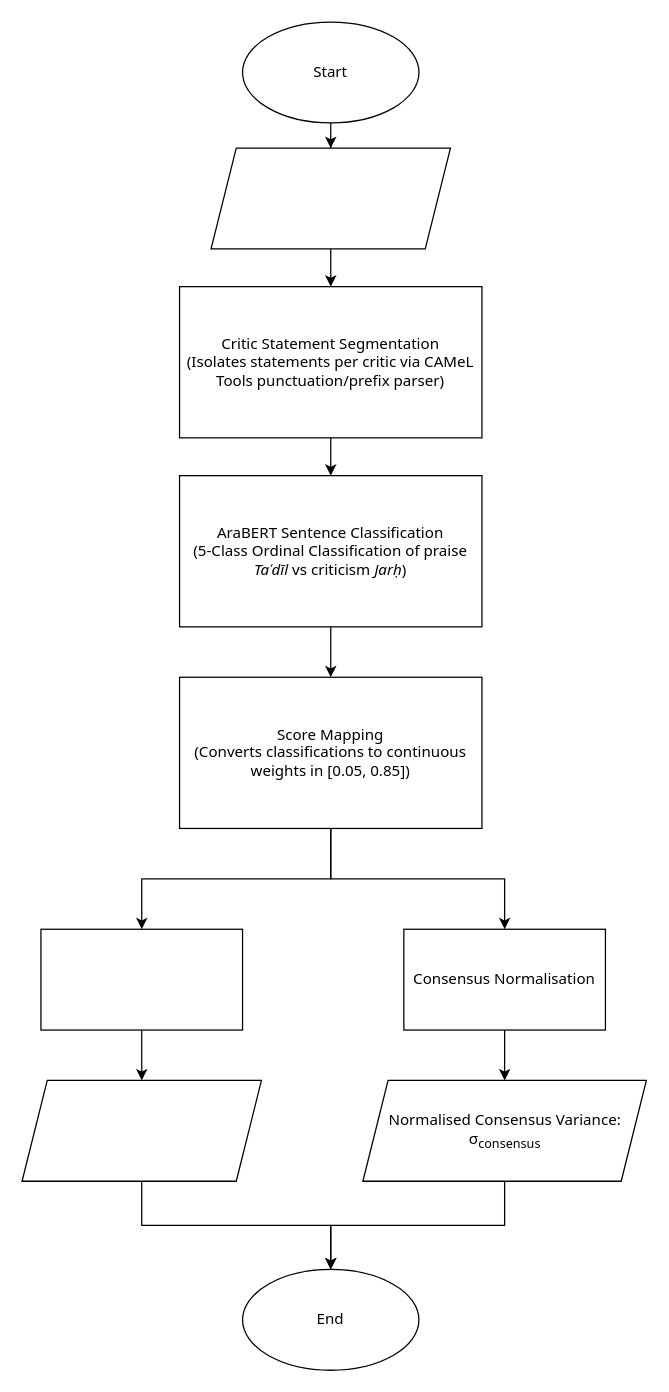
Some shapes in this 669 by 1392 pixel diagram are drawn without their labels. Here are the shapes that lost their labels. From the top down, the centre of each, then its label:
the point at 330,198: Raw Biographical Entry Text
the point at 141,979: Jumhūr Aggregation
the point at 141,1130: Mean Score: r i
